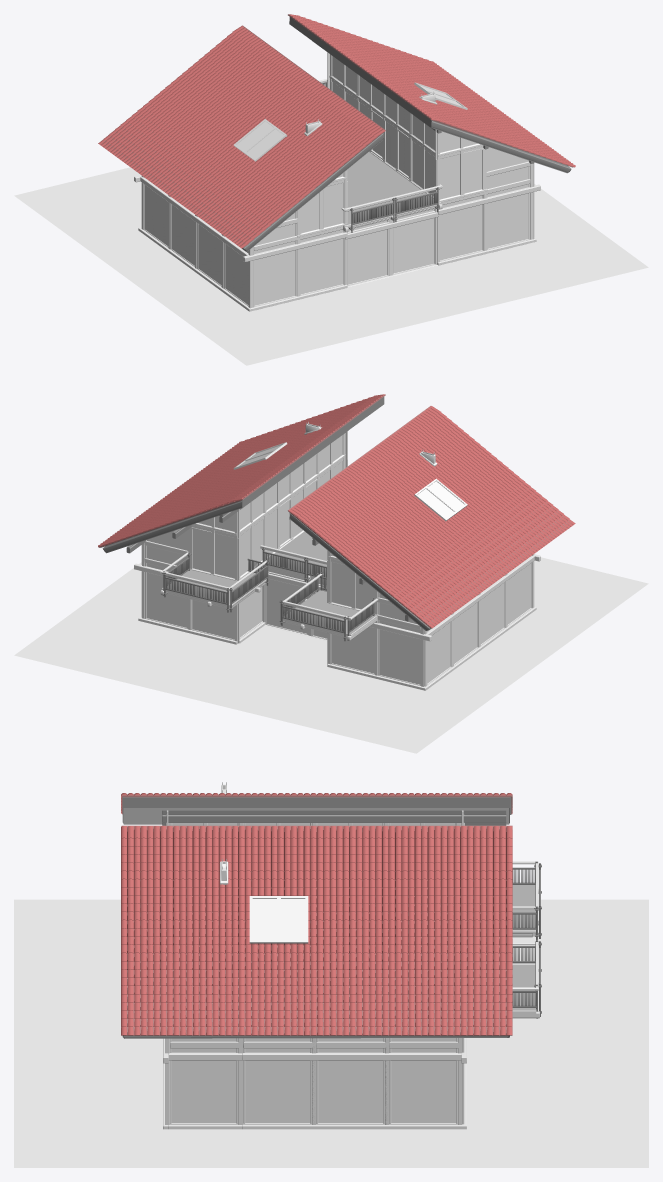
The model's file is unique-house.fbx.
3 views of the same model, one above another, from view 1: azimuth 30°, elevation 25°; view 2: azimuth 150°, elevation 25°; view 3: azimuth 270°, elevation 25° (orthographic). The views are drawn at different scales.
Parts seen in each view (by area): view 1: build49, Plane; view 2: build49, Plane; view 3: build49, Plane.
Boxes of the visible parts, <box> form: build49: <box>98,14,575,311</box>; Plane: <box>14,167,648,365</box>; build49: <box>98,394,575,690</box>; Plane: <box>14,557,648,753</box>; build49: <box>121,782,541,1129</box>; Plane: <box>14,899,648,1167</box>.
Bounding box in the file's own units: 676 × 267 × 676.
